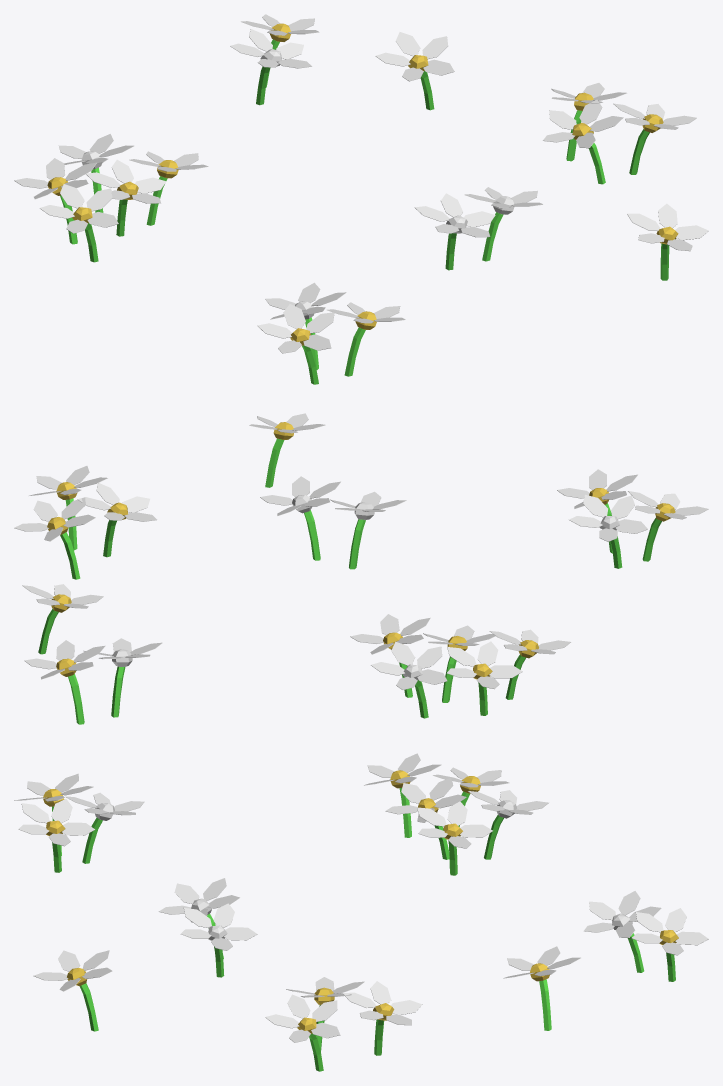
The model's file is flower_bed.fbx.
The picture shows the model from 3 angles, top to bottom: view 1: azimuth 30°, elevation 25°; view 2: azimuth 150°, elevation 25°; view 3: azimuth 270°, elevation 25°; orthographic projection. The views are drawn at different scales.
Visible parts, largest first — view 1: Cylinder.004; view 2: Cylinder.004; view 3: Cylinder.004.
Boxes of the visible parts, <box> form: Cylinder.004: <box>14,14,708,384</box>; Cylinder.004: <box>14,413,708,724</box>; Cylinder.004: <box>14,753,708,1071</box>.
Bounding box in the file's own units: 407 × 44.14 × 425.
